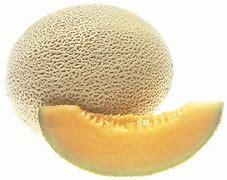Melon Ripe: (8, 5, 174, 133), (37, 104, 221, 175)
